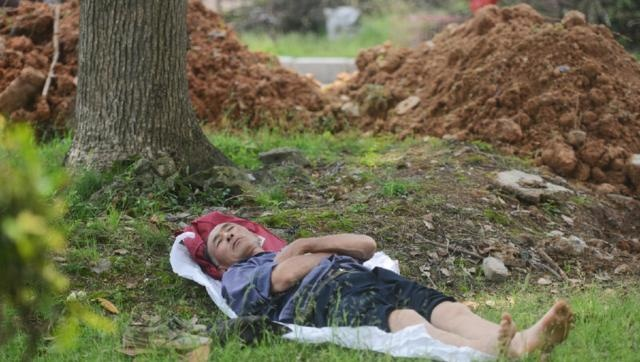falling: (165, 197, 597, 362)
